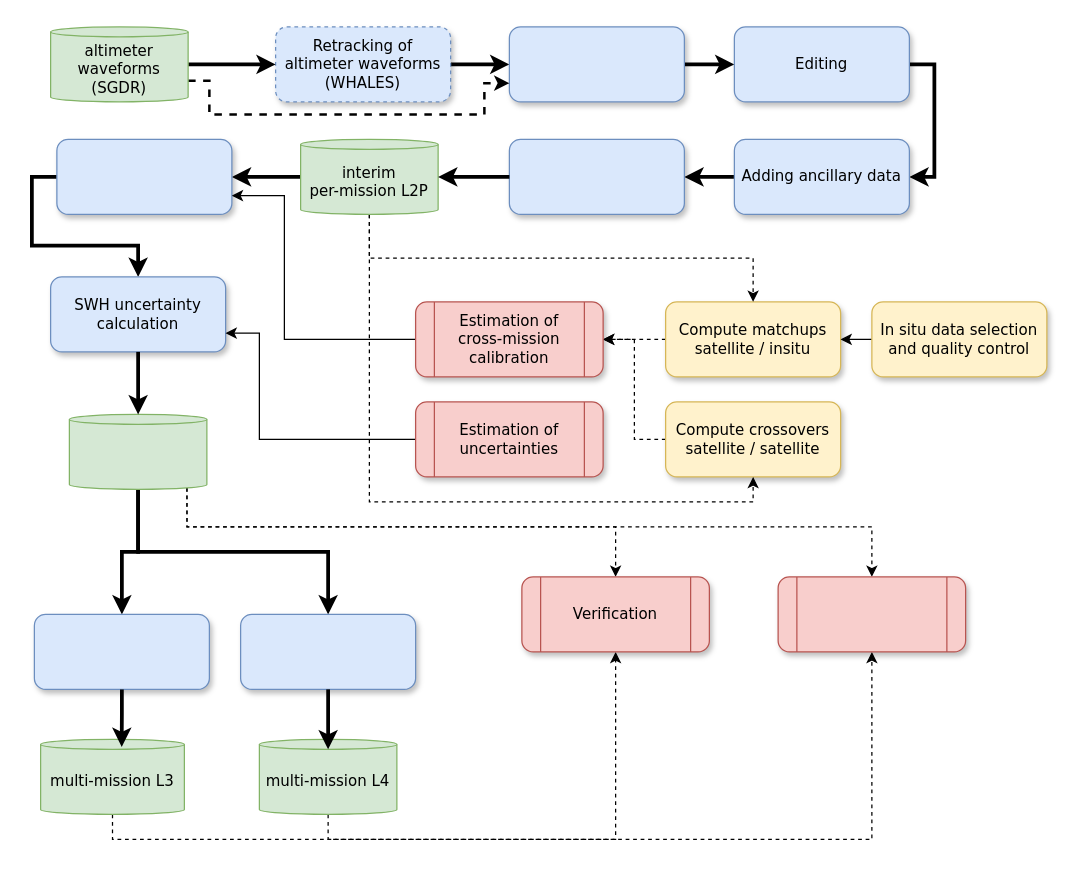
The diagram is 1076 pixels wide and 871 high, and some of its shapes have lost their labels. Here are the shapes that lost their labels. From the top down, the centre of each, then its label:
the point at 597,66: 1 Hz compression
the point at 145,178: SWH bias correction
the point at 597,178: Denoising (EMD)
the point at 137,451: per-mission L2P
the point at 872,616: Validation
the point at 122,653: L2P to L3
the point at 328,653: L2P to L4
